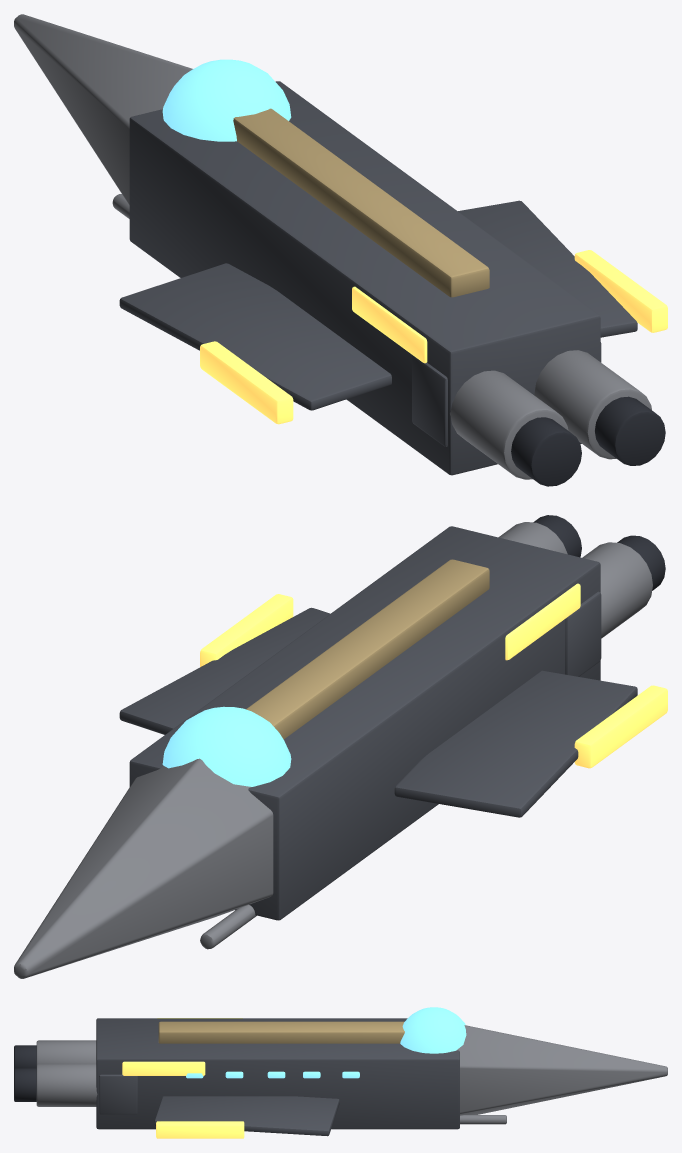
File: scout.glb
The picture shows the model from 3 angles, top to bottom: view 1: azimuth 30°, elevation 25°; view 2: azimuth 150°, elevation 25°; view 3: azimuth 270°, elevation 25°; orthographic projection. The views are drawn at different scales.
Visible parts, largest first — view 1: scout; view 2: scout; view 3: scout.
Part boxes in pixels (left/top/right/bottom): scout: left=14, top=14, right=667, bottom=486; scout: left=14, top=515, right=667, bottom=978; scout: left=14, top=1007, right=667, bottom=1138.
Size of the model in its own units: 5.05 by 2.32 by 12.59.
